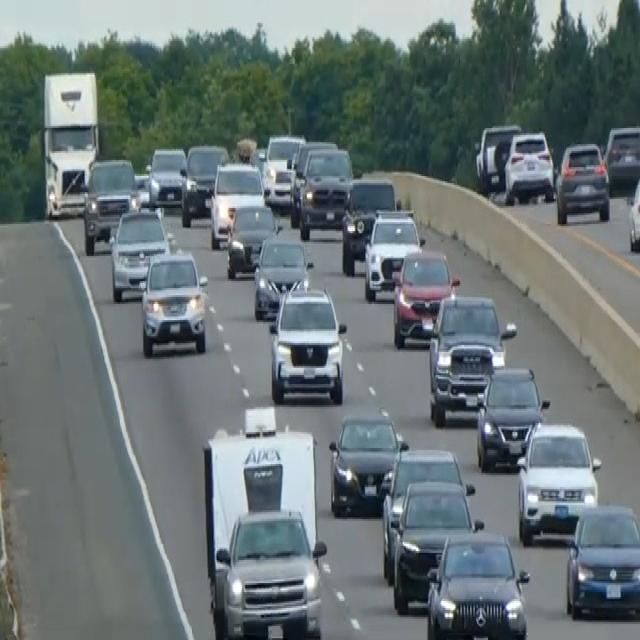car: (391, 476, 483, 614), (379, 444, 470, 582), (424, 526, 530, 638), (427, 291, 515, 425), (516, 420, 601, 544), (268, 281, 347, 405), (564, 500, 639, 620), (328, 407, 408, 516), (474, 363, 549, 471), (139, 247, 209, 357), (391, 245, 460, 348), (108, 205, 171, 302), (81, 155, 140, 254), (363, 207, 424, 300), (341, 176, 396, 274), (252, 233, 312, 322), (297, 146, 353, 238), (208, 158, 264, 247), (555, 139, 610, 224), (224, 199, 279, 279), (288, 137, 337, 224), (180, 142, 228, 226), (504, 128, 555, 204), (474, 121, 520, 194), (262, 132, 304, 210), (146, 144, 186, 206), (603, 123, 639, 190), (627, 164, 639, 252)
lorry: (40, 68, 102, 218)
truck: (200, 407, 327, 638)
